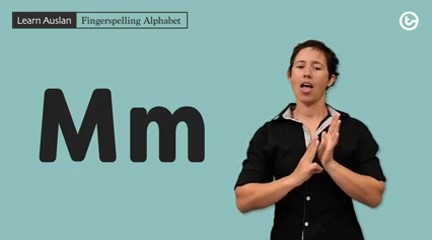M: (286, 110, 352, 191)
